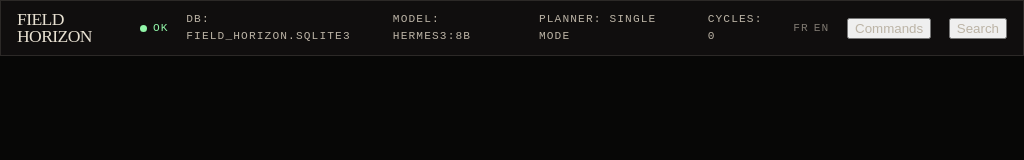
Scenario: TopBar i18n switch › switches back to French when FR is clicked after switching to English
Click the button "FR": (801, 28) [793,22,809,34]
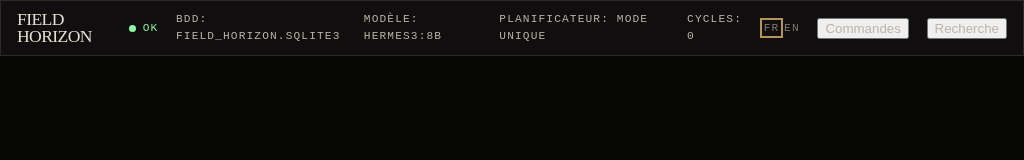
Result: the text "bdd: field_horizon.sqlite3" is shown at [176,11,346,45]
